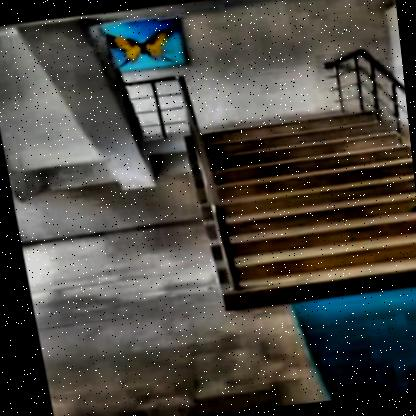stair: (176, 89, 416, 312)
